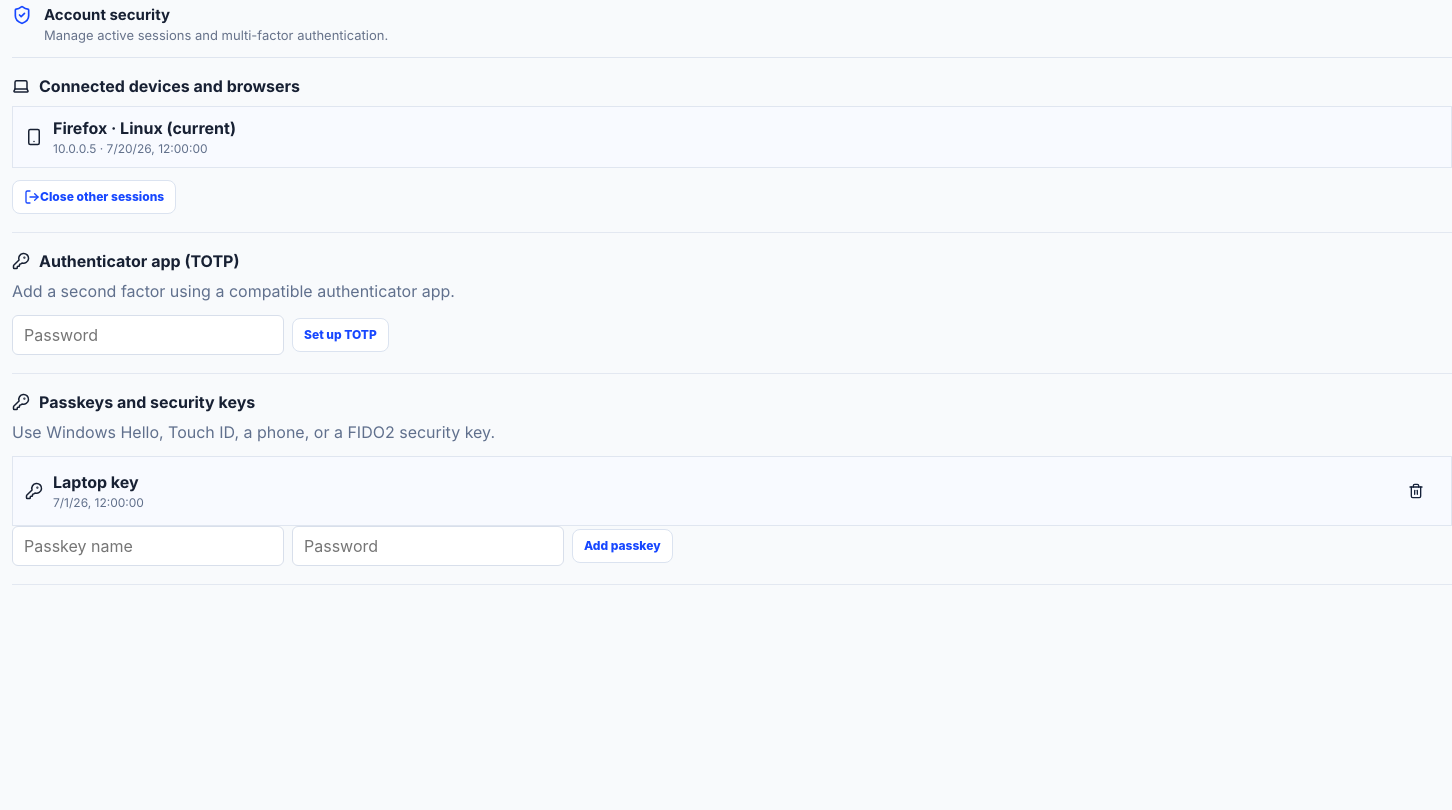
Test: SecuritySettings › lists sessions and closes the other ones
Expected: the text "Firefox · Linux (current)" is shown, [53, 118, 236, 138]
Expected: the text "Laptop key" is shown, [53, 472, 139, 492]
Click the button "Close other sessions" at (94, 197), box [12, 180, 176, 214]
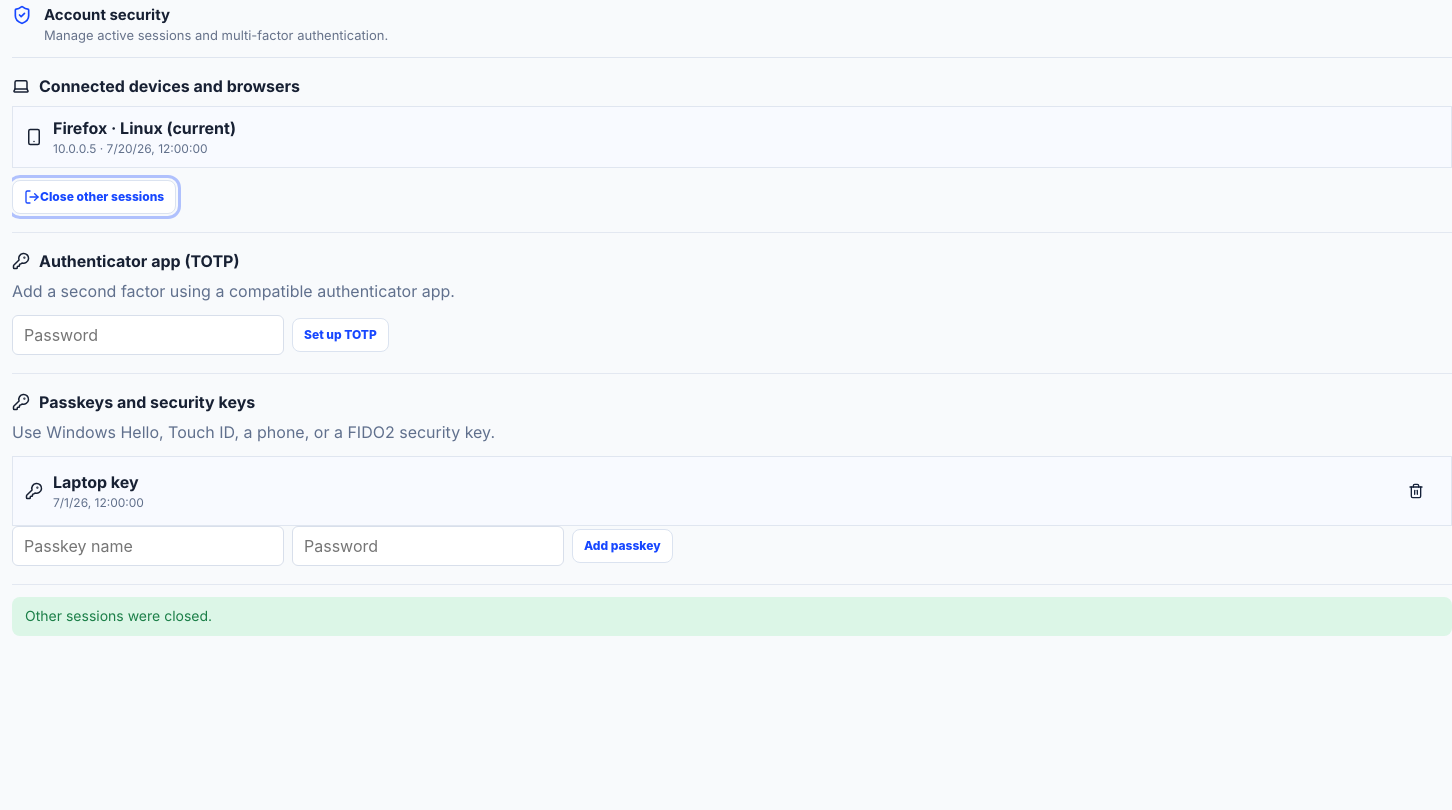
Now the text "Other sessions were closed." is shown, box [12, 597, 1451, 636]
